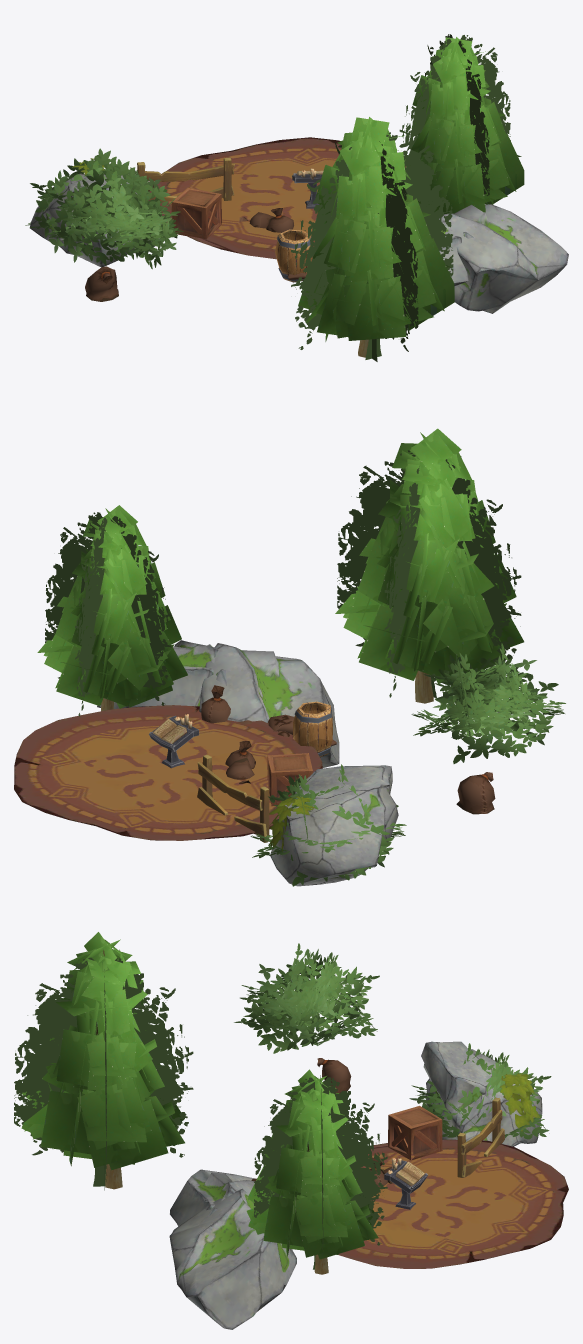
The model's file is MainCityDecor_Home_Ruins.glb.
3 views of the same model, one above another, from view 1: azimuth 30°, elevation 25°; view 2: azimuth 150°, elevation 25°; view 3: azimuth 270°, elevation 25° (orthographic). The views are drawn at different scales.
Visible parts, largest first — view 1: EnvDetail__Bush___19_1__u8470037932190718732, EnvDetail__Bush___18__u7586503984819460876, EnvCampsite_Detail__Rug__3_2__un9184115800093369588, Shadow__un7386851233941300468, EnvDetail__Bush___20_7__un1900613690222191860, SM_Gray_Stone_Small_03_LOD0_1__un605889102264083700, Shadow__un3079113321973359860, EnvDetail__Bush___20_8__u4608951033468672780, EnvCampsite_Detail__Box___1_4__un267949170607990004, SM_Gray_Stone_Small_01_LOD0__un8485600338613380340, EnvCampsite_Detail__Fence__2__u3490974167169424140, EnvCampsite_Detail__Cask__2_16__un5573408811950089460 (+2 smaller); view 2: EnvCampsite_Detail__Rug__3_2__un9184115800093369588, EnvDetail__Bush___19_1__u8470037932190718732, EnvDetail__Bush___18__u7586503984819460876, Shadow__un7386851233941300468, SM_Gray_Stone_Small_01_LOD0__un8485600338613380340, EnvDetail__Bush___20_7__un1900613690222191860, SM_Gray_Stone_Small_03_LOD0__un143887500218082548, Shadow__un3079113321973359860, EnvDetail__Bush___20_8__u4608951033468672780, SM_Gray_Stone_Small_03_LOD0_1__un605889102264083700, EnvCampsite_Detail__Fence__2__u3490974167169424140, EnvCampsite_Detail__Cask__2_16__un5573408811950089460 (+5 smaller); view 3: EnvDetail__Bush___19_1__u8470037932190718732, EnvCampsite_Detail__Rug__3_2__un9184115800093369588, EnvDetail__Bush___18__u7586503984819460876, SM_Gray_Stone_Small_03_LOD0_1__un605889102264083700, EnvDetail__Bush___20_7__un1900613690222191860, Shadow__un7386851233941300468, Shadow__un3079113321973359860, SM_Gray_Stone_Small_01_LOD0__un8485600338613380340, EnvDetail__Bush___20_8__u4608951033468672780, SM_Gray_Stone_Small_03_LOD0__un143887500218082548, EnvCampsite_Detail__Box___1_4__un267949170607990004, EnvCampsite_Detail__Fence__2__u3490974167169424140 (+3 smaller).
Part boxes in pixels (x1,y1,x2,y2): EnvDetail__Bush___19_1__u8470037932190718732: [298, 117, 454, 357]; EnvDetail__Bush___18__u7586503984819460876: [406, 37, 524, 214]; EnvCampsite_Detail__Rug__3_2__un9184115800093369588: [148, 137, 406, 259]; Shadow__un7386851233941300468: [291, 132, 453, 361]; EnvDetail__Bush___20_7__un1900613690222191860: [45, 159, 183, 269]; SM_Gray_Stone_Small_03_LOD0_1__un605889102264083700: [439, 204, 568, 313]; Shadow__un3079113321973359860: [399, 34, 510, 195]; EnvDetail__Bush___20_8__u4608951033468672780: [25, 148, 162, 259]; EnvCampsite_Detail__Box___1_4__un267949170607990004: [171, 187, 221, 239]; SM_Gray_Stone_Small_01_LOD0__un8485600338613380340: [30, 173, 159, 267]; EnvCampsite_Detail__Fence__2__u3490974167169424140: [137, 157, 235, 201]; EnvCampsite_Detail__Cask__2_16__un5573408811950089460: [275, 229, 312, 282]; EnvCampsite_Detail__Rug__3_2__un9184115800093369588: [14, 705, 322, 840]; EnvDetail__Bush___19_1__u8470037932190718732: [335, 428, 524, 703]; EnvDetail__Bush___18__u7586503984819460876: [37, 505, 187, 711]; Shadow__un7386851233941300468: [337, 450, 521, 697]; SM_Gray_Stone_Small_01_LOD0__un8485600338613380340: [270, 765, 398, 886]; EnvDetail__Bush___20_7__un1900613690222191860: [411, 643, 565, 763]; SM_Gray_Stone_Small_03_LOD0__un143887500218082548: [199, 643, 339, 767]; Shadow__un3079113321973359860: [45, 512, 171, 716]; EnvDetail__Bush___20_8__u4608951033468672780: [250, 764, 406, 886]; SM_Gray_Stone_Small_03_LOD0_1__un605889102264083700: [97, 640, 226, 708]; EnvCampsite_Detail__Fence__2__u3490974167169424140: [197, 754, 269, 842]; EnvCampsite_Detail__Cask__2_16__un5573408811950089460: [293, 701, 332, 757]; EnvDetail__Bush___19_1__u8470037932190718732: [21, 932, 184, 1189]; EnvCampsite_Detail__Rug__3_2__un9184115800093369588: [338, 1139, 568, 1268]; EnvDetail__Bush___18__u7586503984819460876: [246, 1069, 378, 1274]; SM_Gray_Stone_Small_03_LOD0_1__un605889102264083700: [169, 1188, 296, 1329]; EnvDetail__Bush___20_7__un1900613690222191860: [234, 943, 379, 1053]; Shadow__un7386851233941300468: [14, 957, 193, 1190]; Shadow__un3079113321973359860: [254, 1075, 387, 1269]; SM_Gray_Stone_Small_01_LOD0__un8485600338613380340: [421, 1041, 542, 1146]; EnvDetail__Bush___20_8__u4608951033468672780: [409, 1043, 551, 1139]; SM_Gray_Stone_Small_03_LOD0__un143887500218082548: [170, 1169, 254, 1226]; EnvCampsite_Detail__Box___1_4__un267949170607990004: [388, 1105, 442, 1160]; EnvCampsite_Detail__Fence__2__u3490974167169424140: [457, 1097, 504, 1177].
Size of the model in its own units: 10.21 by 5.77 by 10.17.
14 materials, 14 textured.
